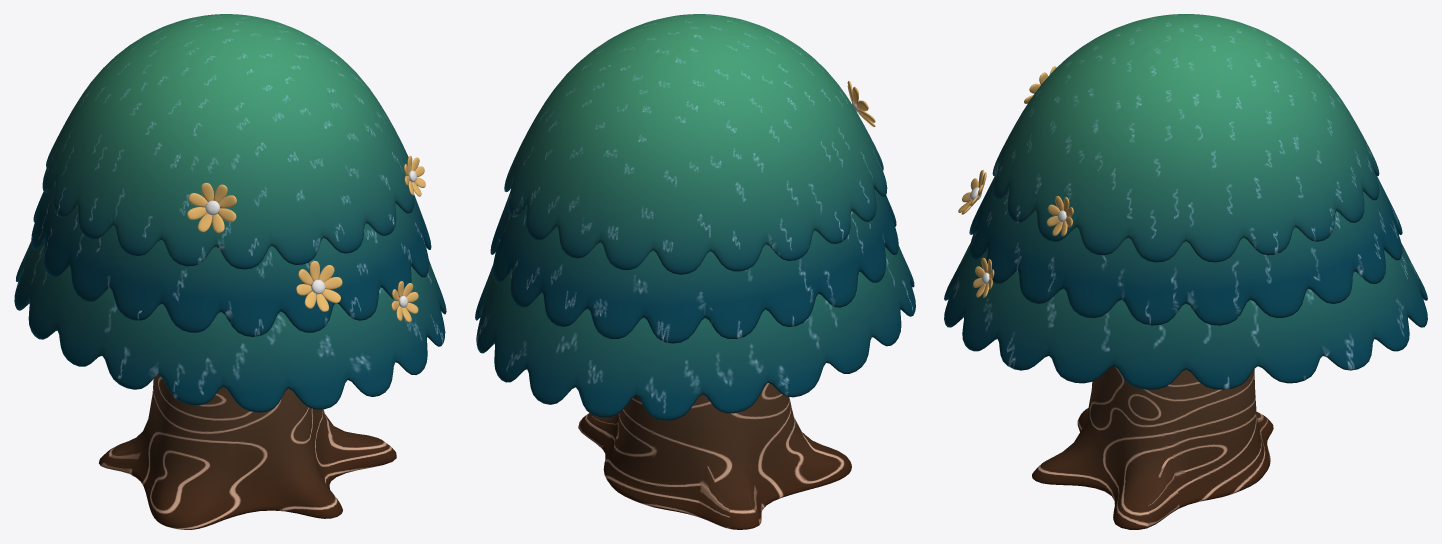
Rendered from tree1.fbx.
3 views of the same model, side by side, from view 1: azimuth 30°, elevation 25°; view 2: azimuth 150°, elevation 25°; view 3: azimuth 270°, elevation 25° (orthographic). The views are drawn at different scales.
Visible parts, largest first — view 1: 球体.001, 球体.003, 柱体.008, 球体.002, 平面.008, 平面.027, 平面.006, 平面.007; view 2: 球体.001, 球体.003, 球体.002, 柱体.008; view 3: 球体.001, 球体.003, 球体.002, 柱体.008, 平面.007, 平面.006.
Part boxes in pixels (x1,y1,x2,y2): 球体.001: (42, 14, 414, 269); 球体.003: (14, 241, 446, 412); 柱体.008: (99, 375, 396, 529); 球体.002: (31, 186, 431, 336); 平面.008: (187, 182, 236, 233); 平面.027: (296, 261, 342, 311); 平面.006: (391, 281, 418, 322); 平面.007: (404, 155, 425, 196); 球体.001: (504, 14, 887, 274); 球体.003: (475, 245, 915, 420); 球体.002: (490, 189, 898, 343); 柱体.008: (578, 383, 851, 529); 球体.001: (992, 14, 1379, 262); 球体.003: (944, 243, 1427, 389); 球体.002: (969, 176, 1402, 325); 柱体.008: (1032, 366, 1273, 529); 平面.007: (1046, 196, 1073, 236); 平面.006: (973, 258, 994, 297).
Bounding box in the file's own units: 3.77 × 4.46 × 4.46.
Materials: 6 (4 with a texture image).
